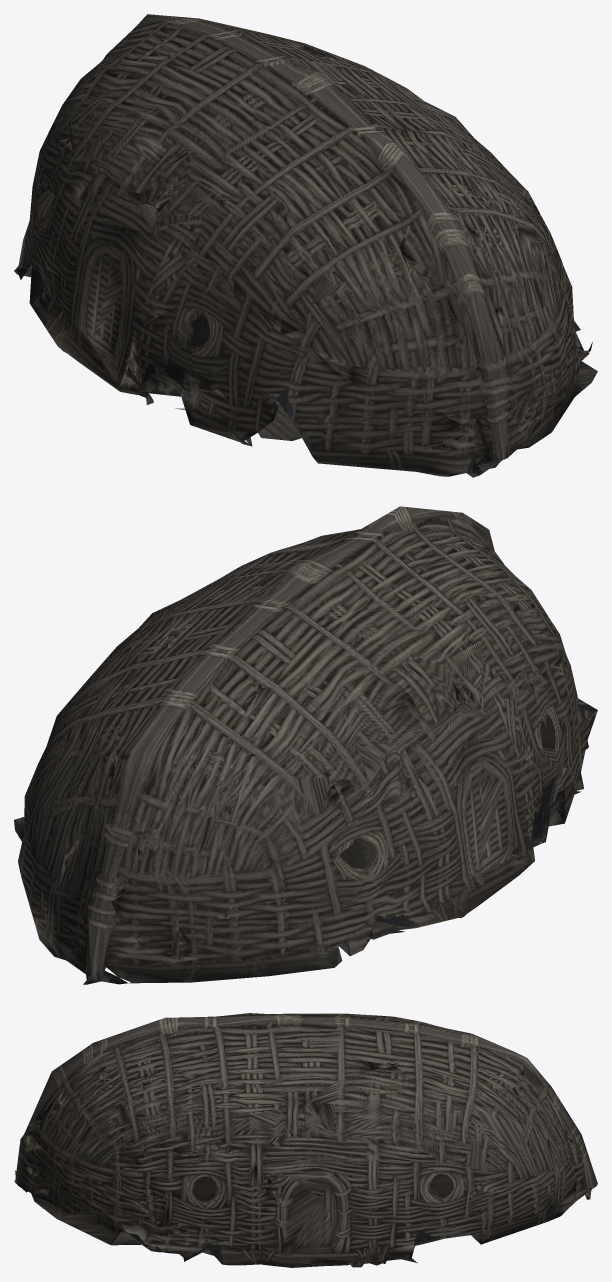
File: horaro_hull_dome.glb
The picture shows the model from 3 angles, top to bottom: view 1: azimuth 30°, elevation 25°; view 2: azimuth 150°, elevation 25°; view 3: azimuth 270°, elevation 25°; orthographic projection. The views are drawn at different scales.
Visible parts, largest first — view 1: horaro_hull_dome; view 2: horaro_hull_dome; view 3: horaro_hull_dome.
Boxes of the visible parts, box(x1,y1,x2,y2) form: horaro_hull_dome: box(14, 14, 597, 477); horaro_hull_dome: box(14, 506, 597, 984); horaro_hull_dome: box(14, 1013, 597, 1267).
Bounding box in the file's own units: 5.24 × 3.13 × 9.04.
Materials: 1 (1 with a texture image).
